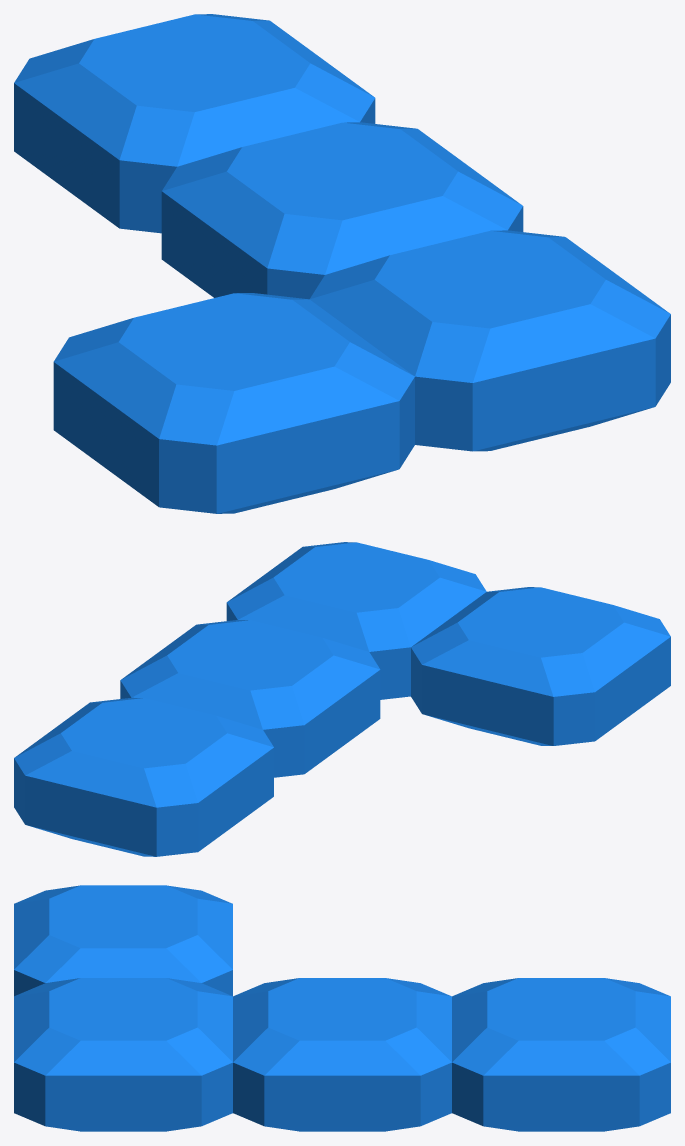
3 views of the same model, one above another, from view 1: azimuth 30°, elevation 25°; view 2: azimuth 150°, elevation 25°; view 3: azimuth 270°, elevation 25° (orthographic). The views are drawn at different scales.
Visible parts, largest first — view 1: Cube.021; view 2: Cube.021; view 3: Cube.021.
Boxes of the visible parts, <box> form: Cube.021: <box>14,14,670,513</box>; Cube.021: <box>14,542,670,856</box>; Cube.021: <box>14,885,670,1131</box>.
Bounding box in the file's own units: 1 × 0.2288 × 1.5.
1 material, 1 textured.
